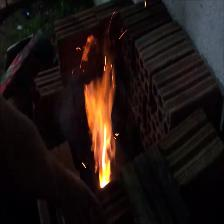fire: (63, 29, 130, 197)
